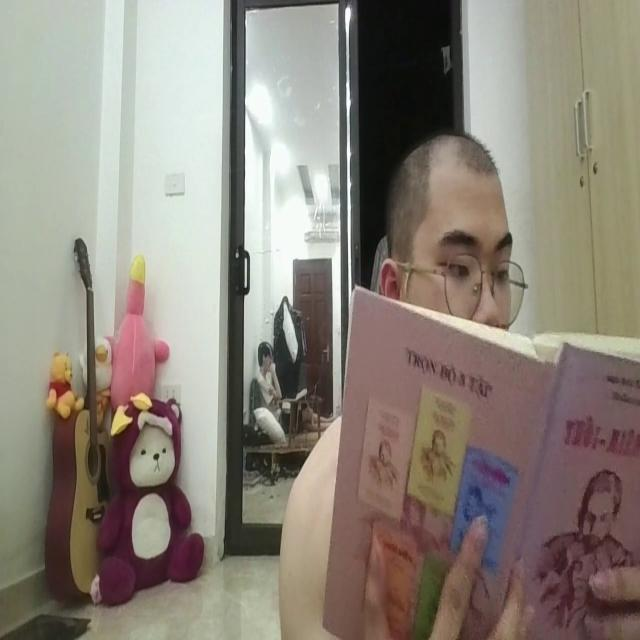book: (322, 261, 640, 640)
extra_person: (249, 322, 282, 436)
student: (274, 131, 567, 640)
